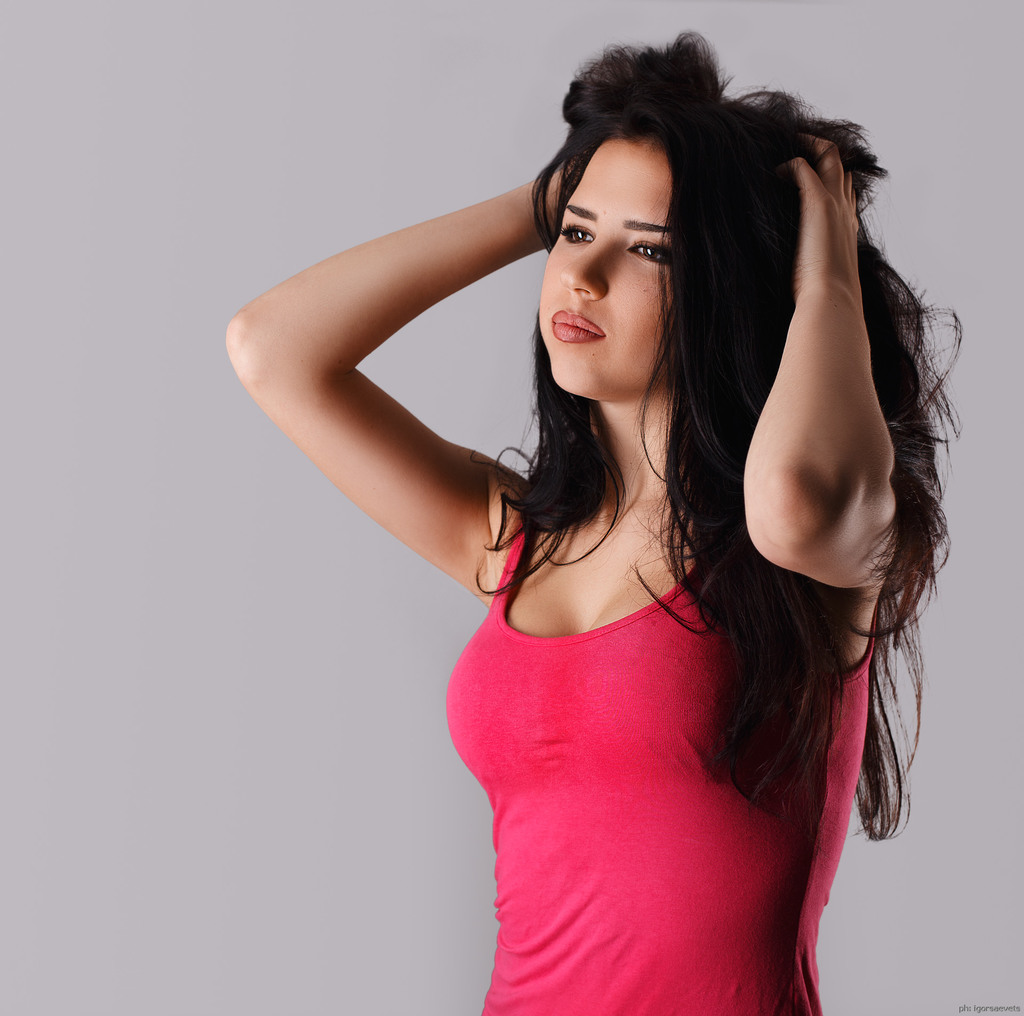Human-face: (537, 131, 680, 399)
